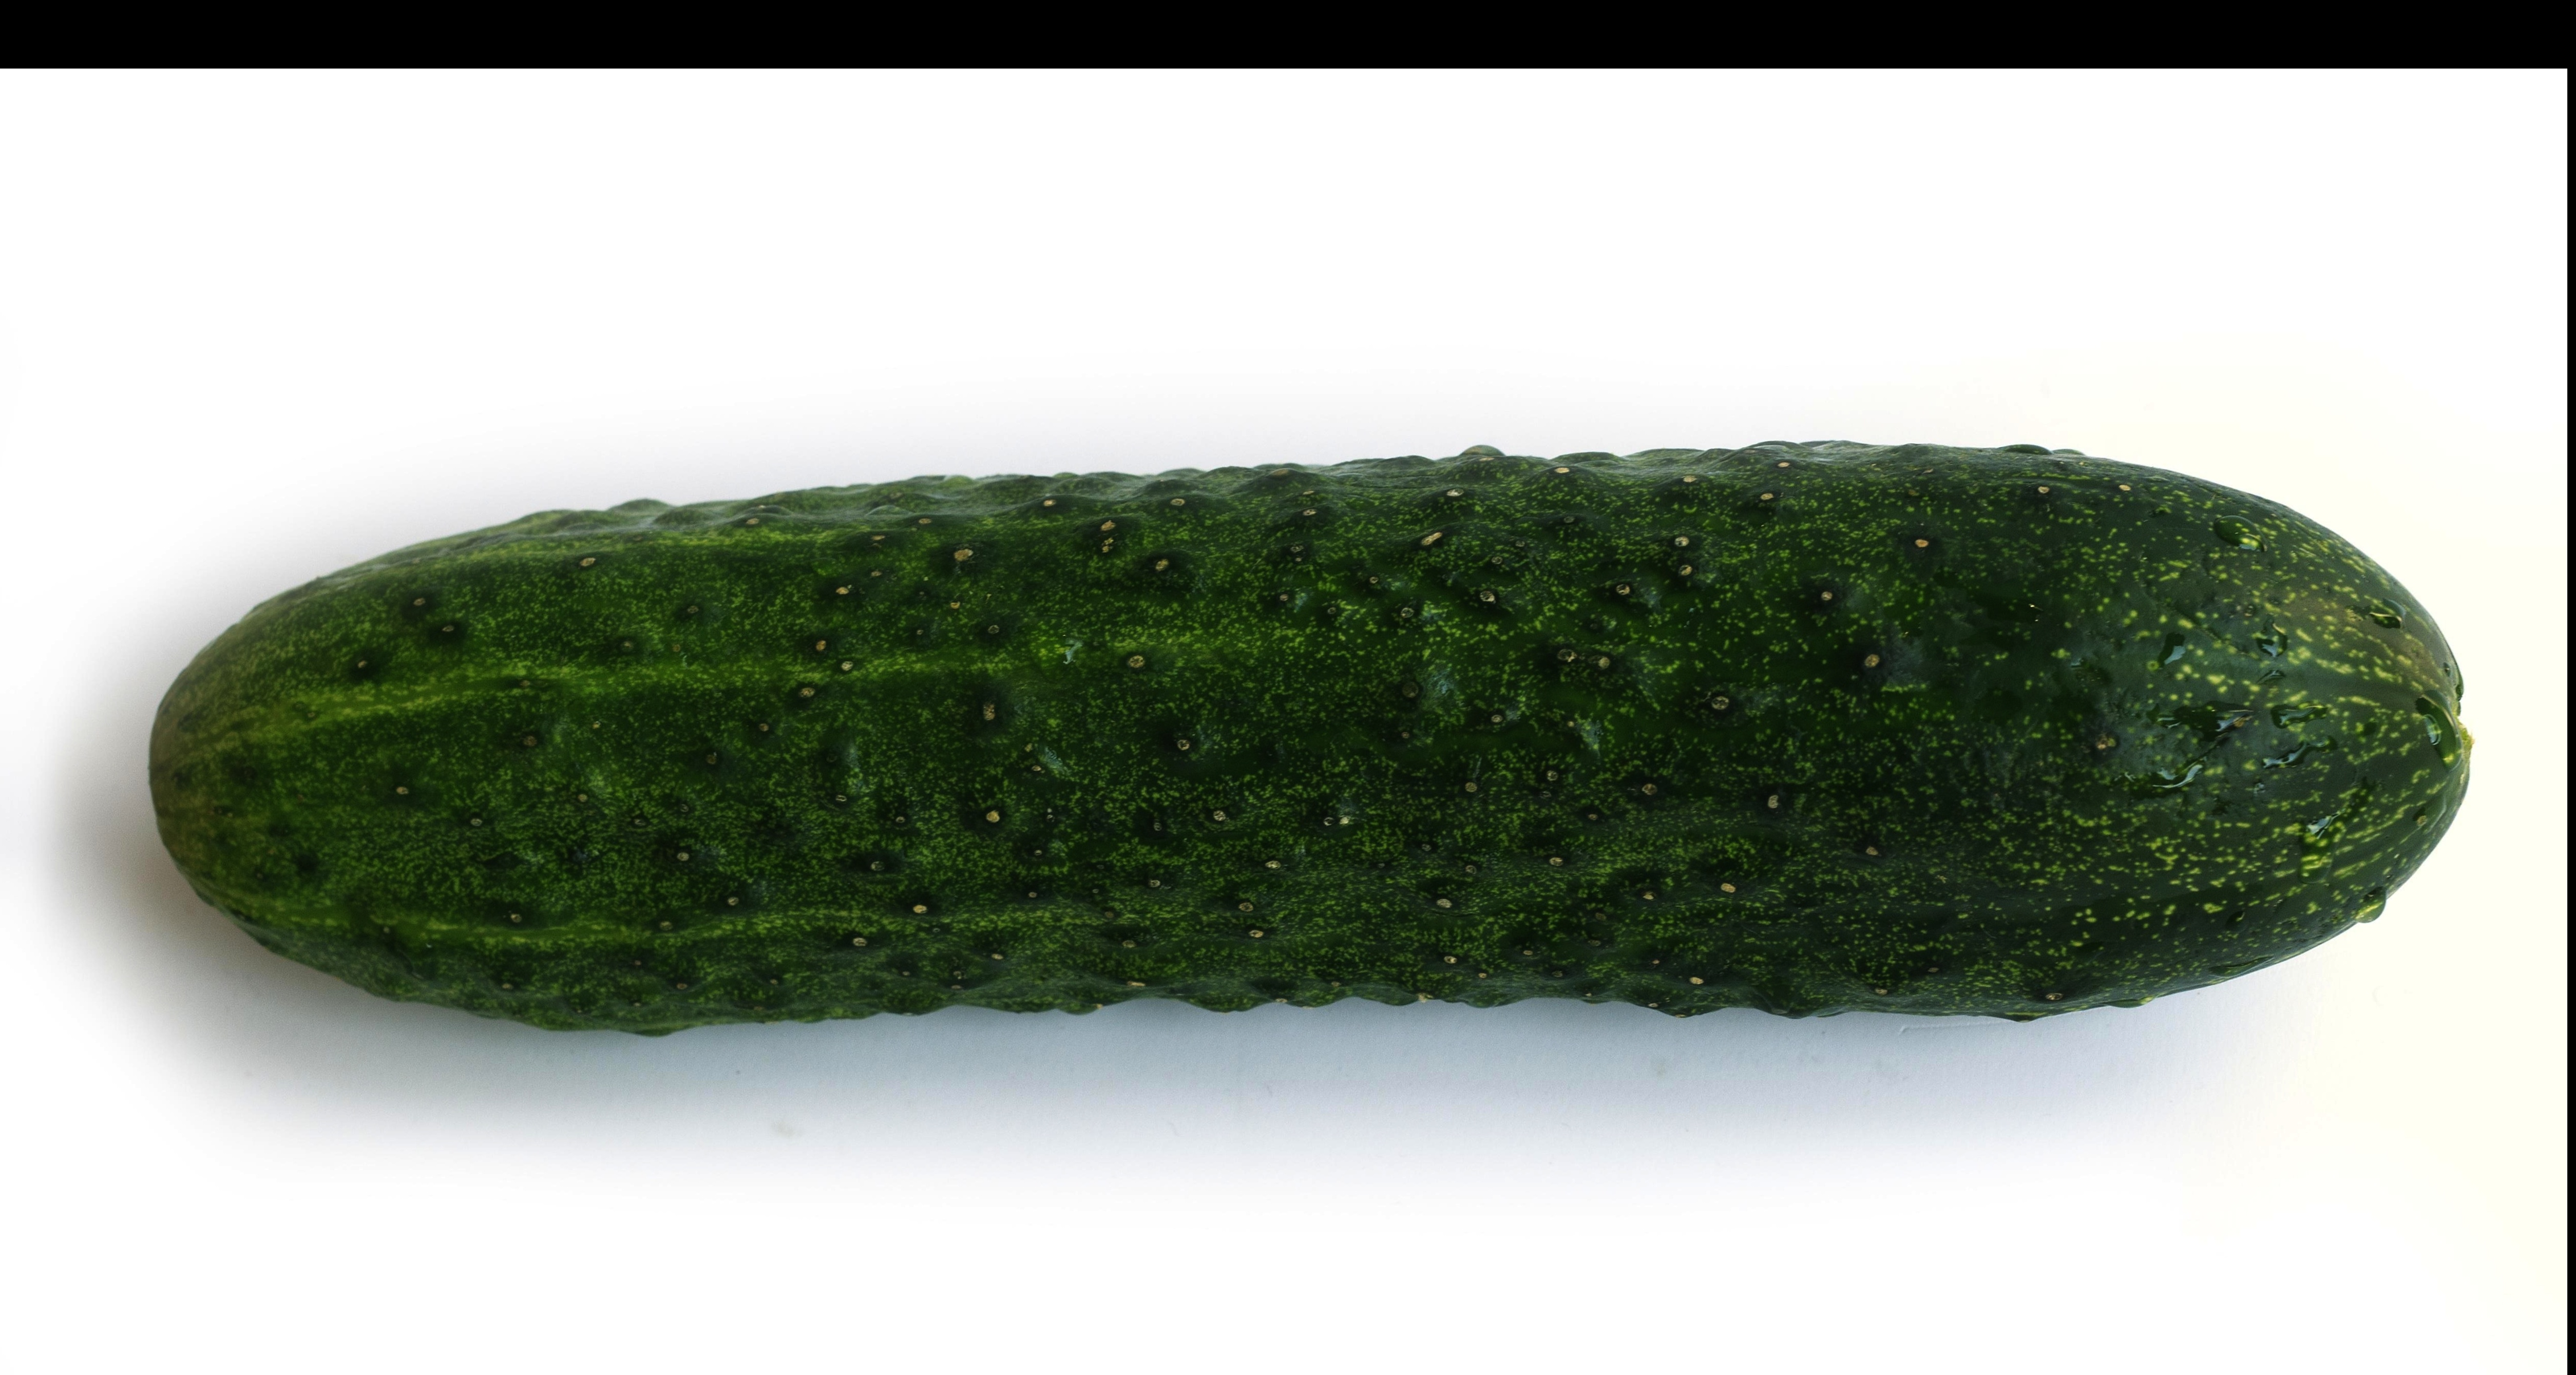cucumber: (128, 445, 2481, 1077)
